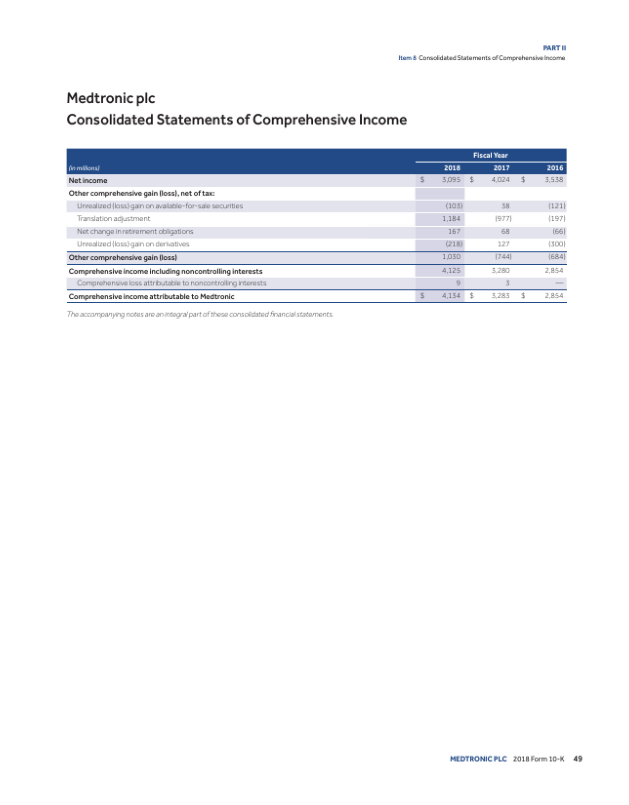table: (65, 148, 565, 307)
